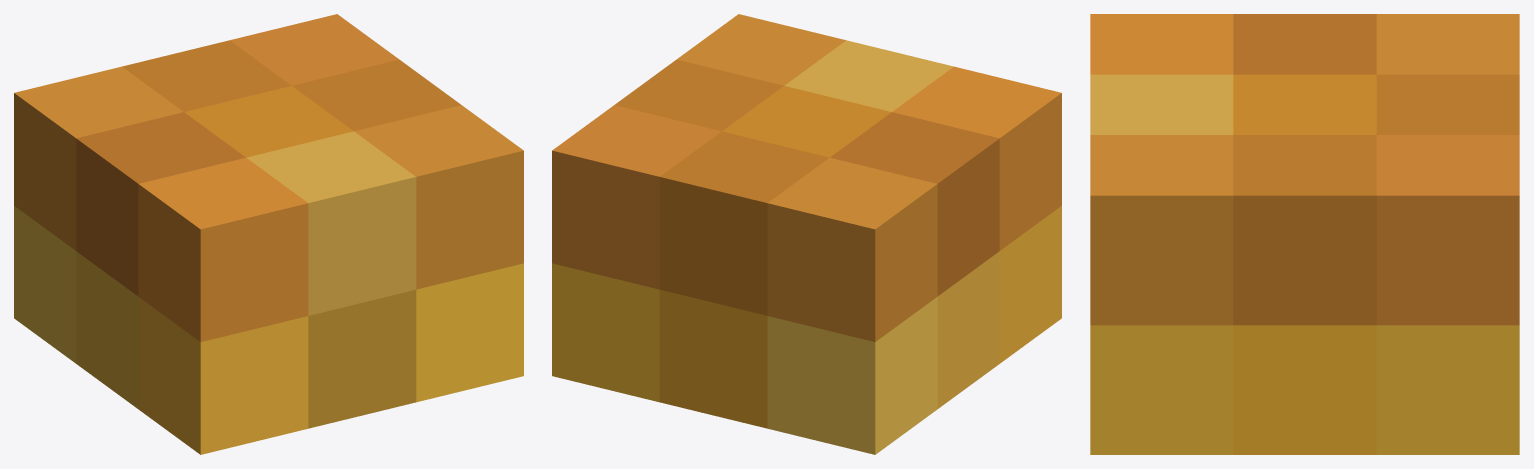
The model's file is tavern_cheese.glb.
The picture shows the model from 3 angles, left to right: view 1: azimuth 30°, elevation 25°; view 2: azimuth 150°, elevation 25°; view 3: azimuth 270°, elevation 25°; orthographic projection. The views are drawn at different scales.
Parts seen in each view (by area): view 1: tavern_cheese; view 2: tavern_cheese; view 3: tavern_cheese.
Part boxes in pixels (x1,y1,x2,y2): tavern_cheese: (14,14,523,454); tavern_cheese: (552,14,1061,454); tavern_cheese: (1090,14,1519,454).
Size of the model in its own units: 0.75 by 0.5 by 0.75.
Materials: 1 (1 with a texture image).
